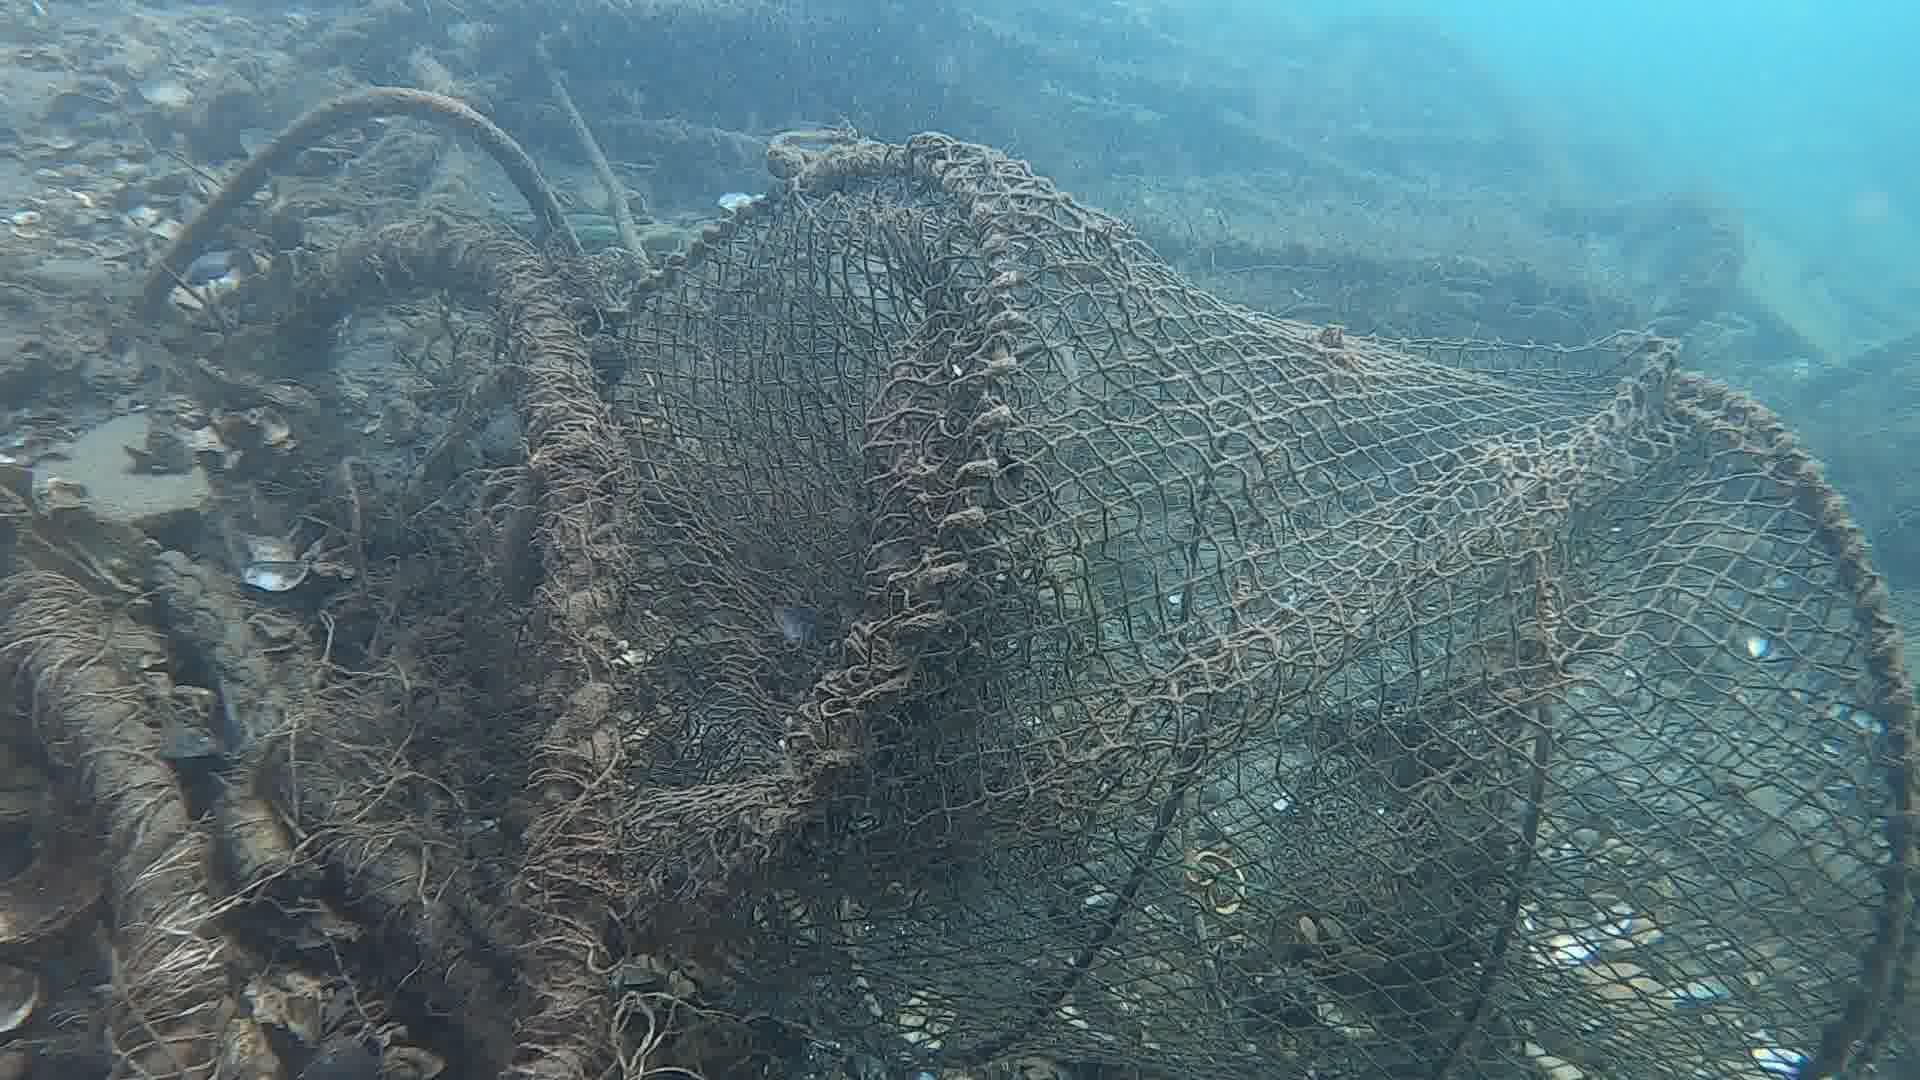bundle of ropes: (51, 546, 291, 876)
spring fish trap: (597, 135, 1920, 1080)
